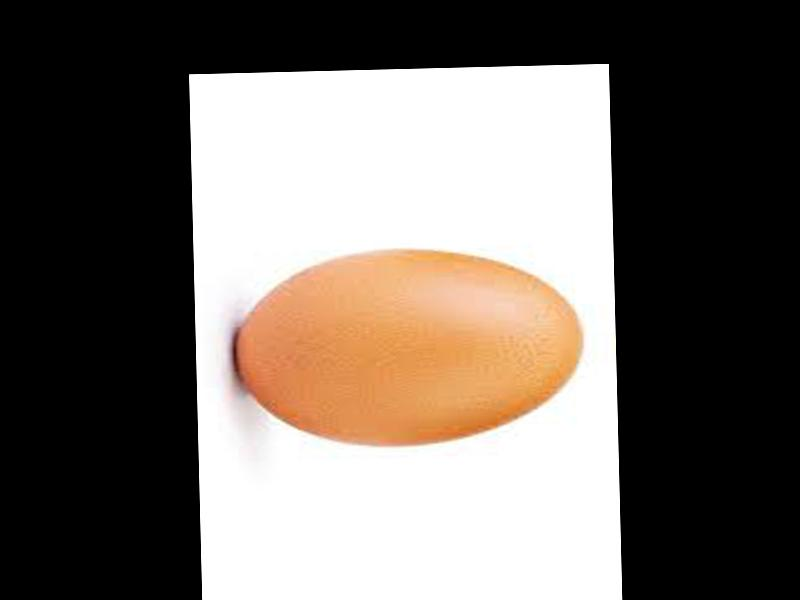Eggs: (233, 247, 585, 448)
